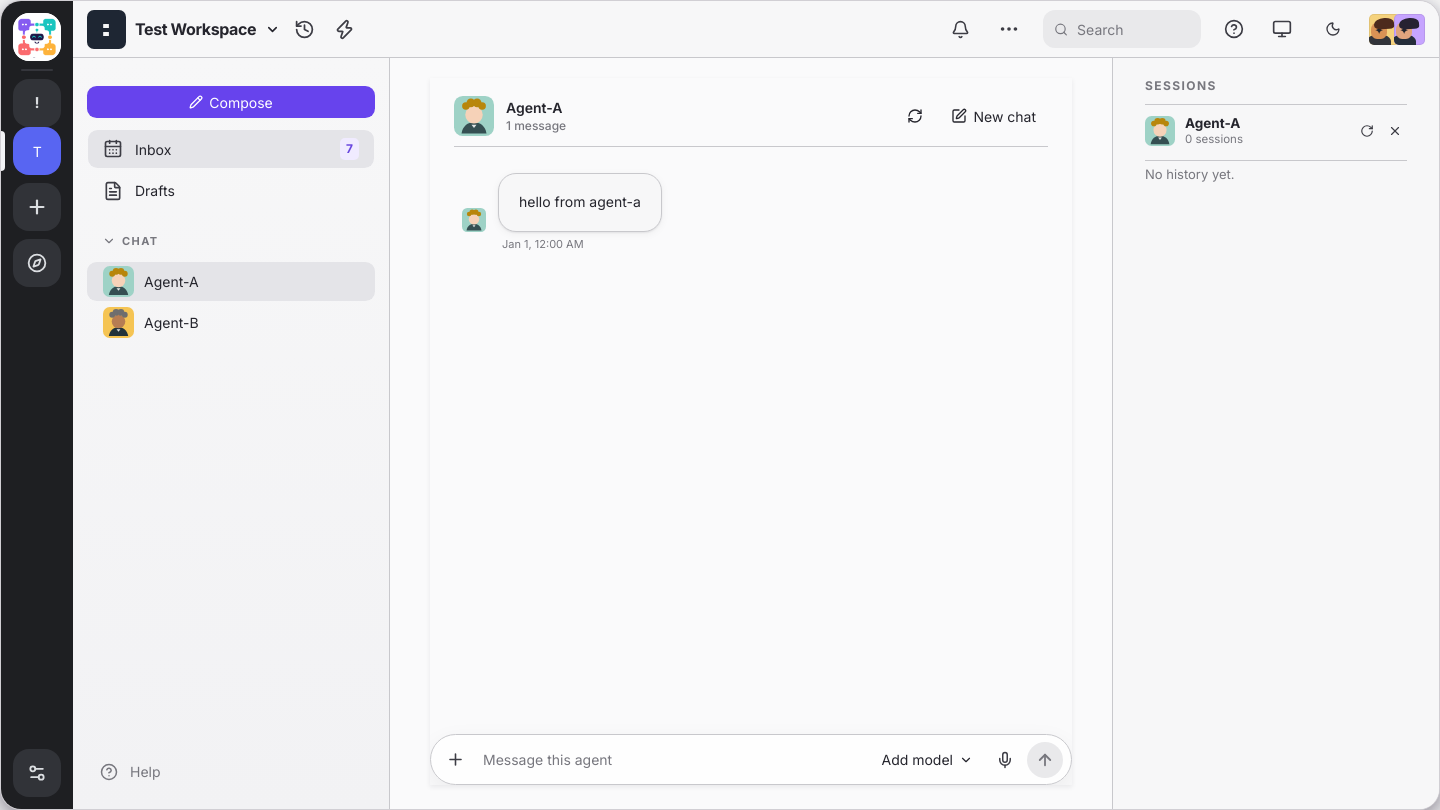
Test: WorkspaceChat agent + sessionStorage selection › clicking an agent in the sidebar switches the real chat to that agent stored session
The width and height of the screenshot is (1440, 810).
Expected: the text "hello from agent-a" is shown, [519,190,641,214]
Click the button "agent-b" at (118, 322), box [87,302,375,342]
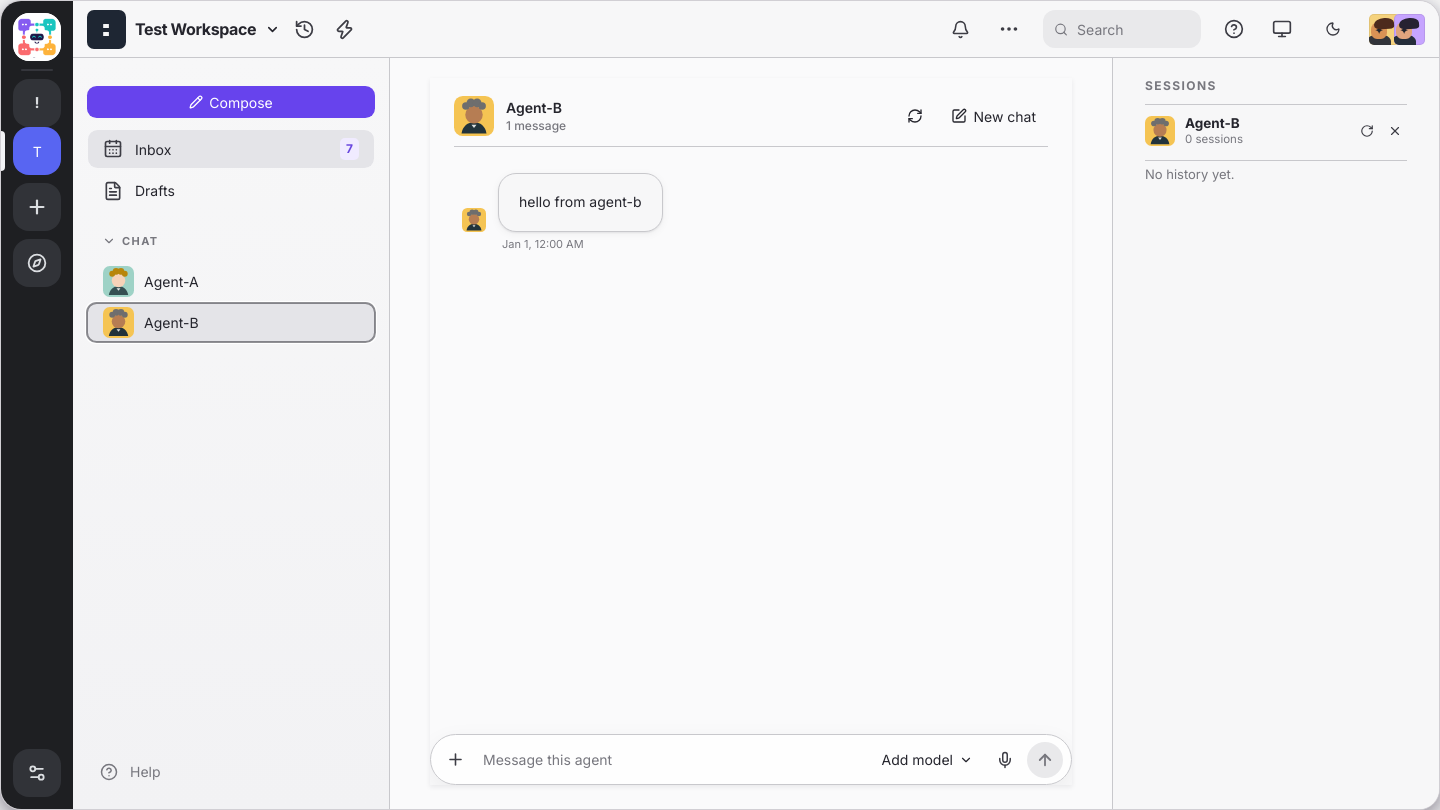
Expected: the text "hello from agent-b" is shown, [519,190,642,214]
